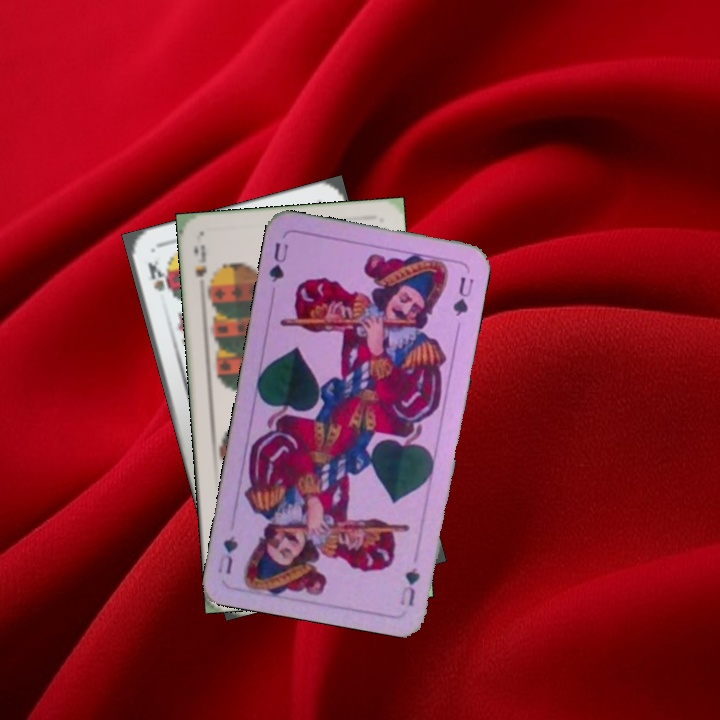GU: (265, 238, 291, 285), (396, 564, 423, 609)
S9: (190, 240, 209, 280)
SK: (144, 256, 172, 295)
